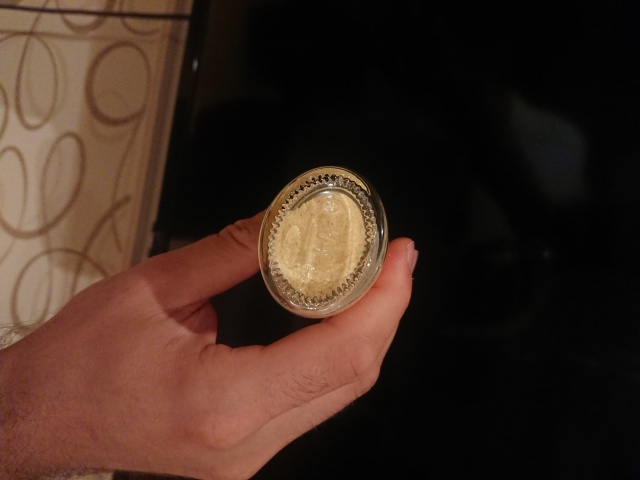Kotanyi Garlic Granules 70g: (254, 163, 391, 322)
